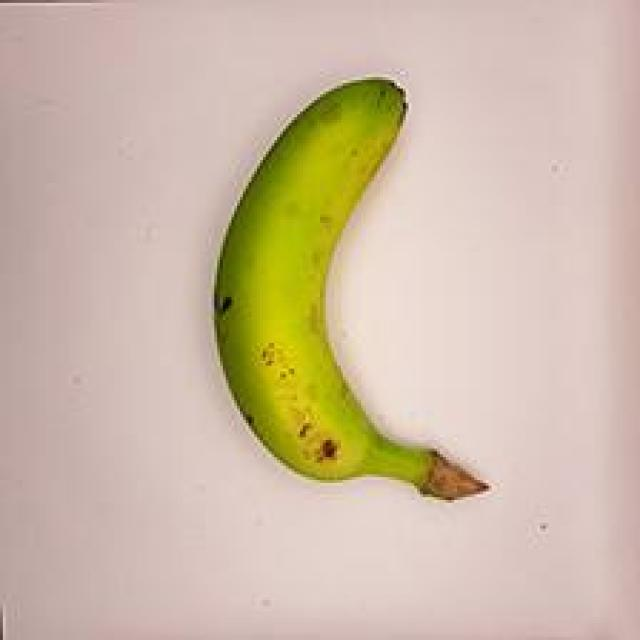Unripe: (178, 48, 511, 544)
